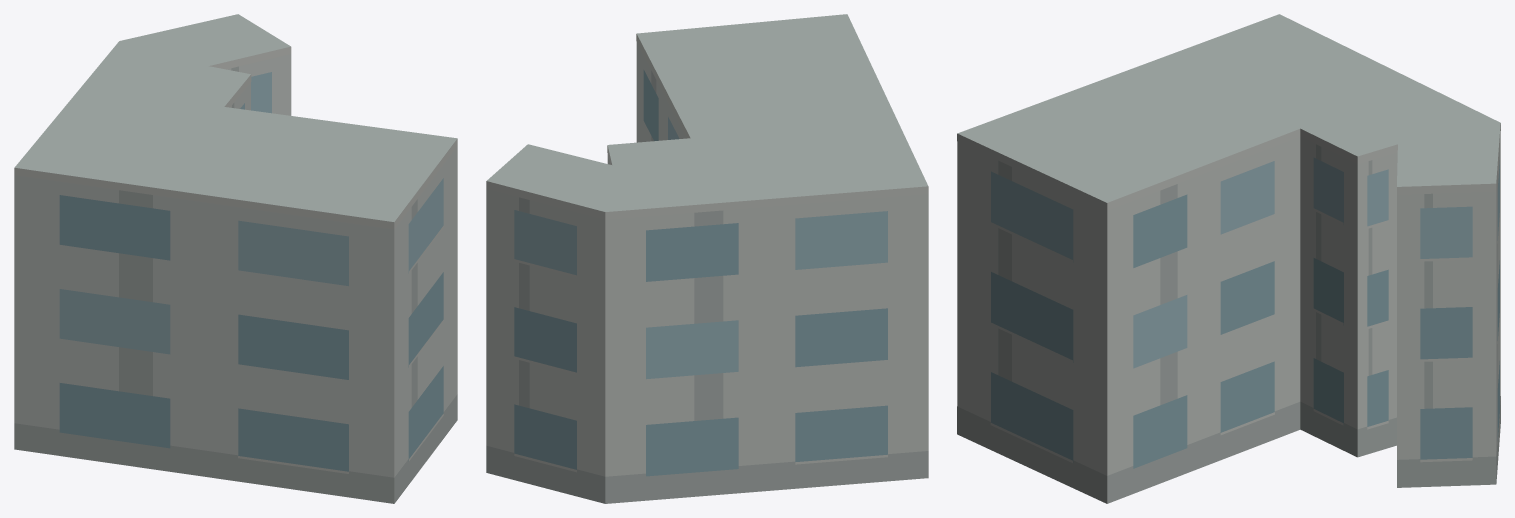
The model's file is survey-upis-32634196.glb.
The picture shows the model from 3 angles, left to right: view 1: azimuth 30°, elevation 25°; view 2: azimuth 150°, elevation 25°; view 3: azimuth 270°, elevation 25°; orthographic projection. The views are drawn at different scales.
Visible parts, largest first — view 1: survey-upis-32634196.tmp; view 2: survey-upis-32634196.tmp; view 3: survey-upis-32634196.tmp.
Boxes of the visible parts, x1,y1,x2,y2 form: survey-upis-32634196.tmp: [14, 14, 457, 503]; survey-upis-32634196.tmp: [486, 14, 928, 503]; survey-upis-32634196.tmp: [957, 14, 1500, 503].
Bounding box in the file's own units: 12.33 × 9.15 × 14.98.
